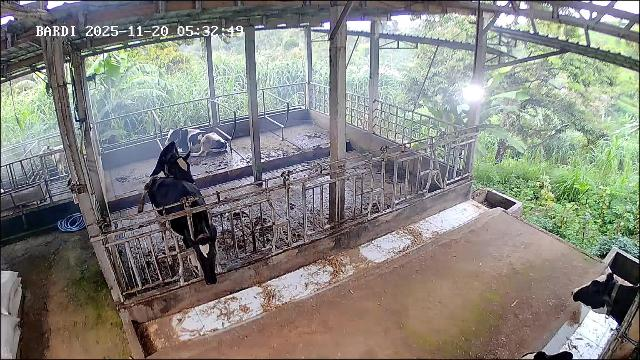mounting: (133, 140, 193, 213)
